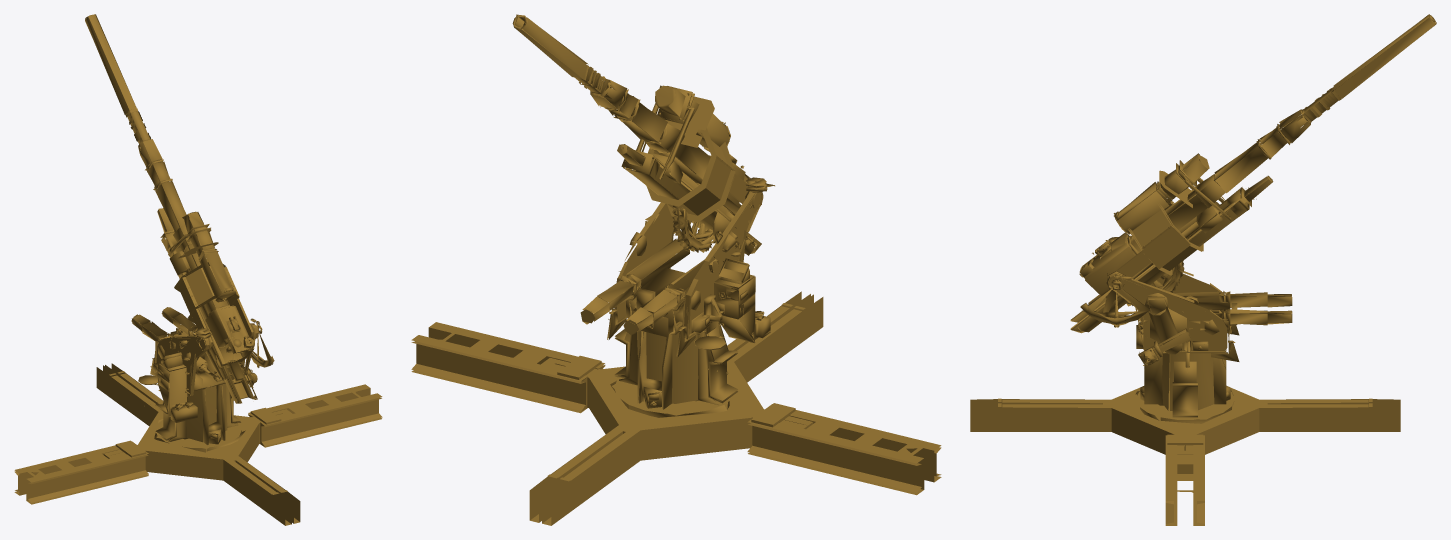
The model's file is Type10120mmLOD0.glb.
The picture shows the model from 3 angles, left to right: view 1: azimuth 30°, elevation 25°; view 2: azimuth 150°, elevation 25°; view 3: azimuth 270°, elevation 25°; orthographic projection. The views are drawn at different scales.
Parts seen in each view (by area): view 1: Object_14; view 2: Object_14; view 3: Object_14.
Part boxes in pixels (box(x1,y1,x2,y2)): Object_14: box(14, 14, 382, 525); Object_14: box(411, 14, 941, 525); Object_14: box(970, 14, 1436, 525).
Bounding box in the file's own units: 8.12 × 8.01 × 8.2.
